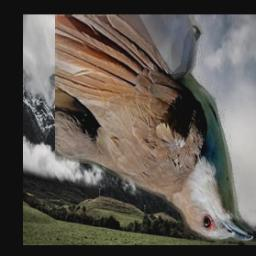Cuckoo: (55, 15, 253, 242)
